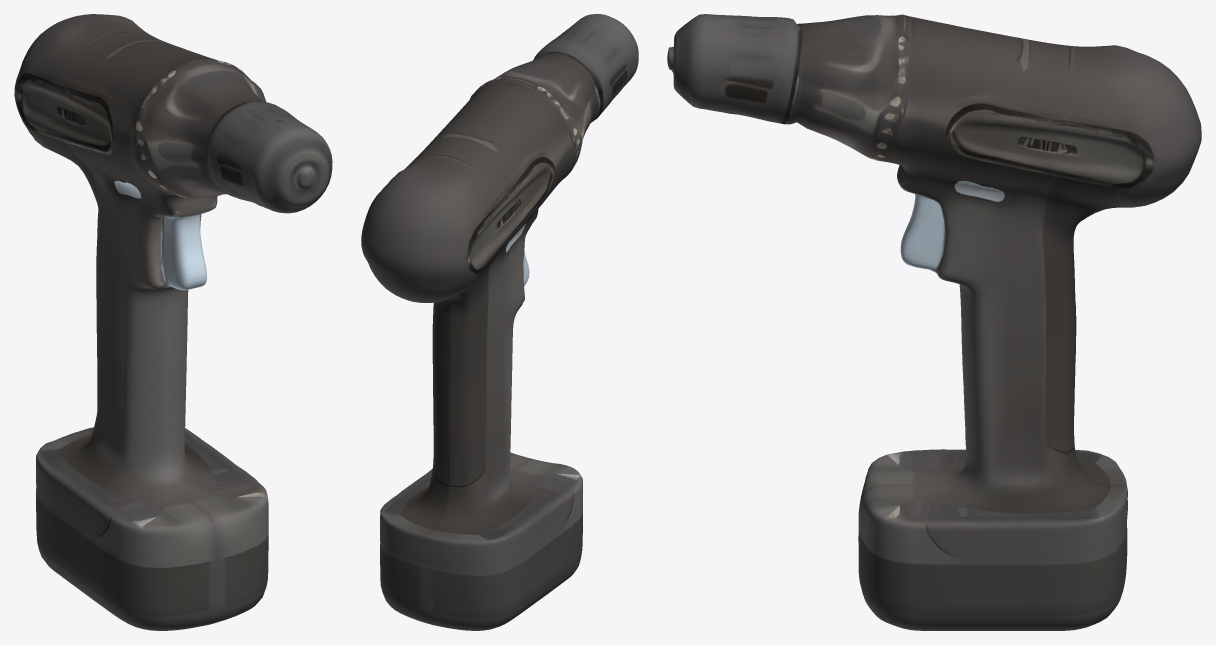
3 renders of one model, left to right at view 1: azimuth 30°, elevation 25°; view 2: azimuth 150°, elevation 25°; view 3: azimuth 270°, elevation 25°, orthographic. The views are drawn at different scales.
Parts seen in each view (by area): view 1: model; view 2: model; view 3: model.
Boxes of the visible parts, x1,y1,x2,y2 form: model: [14, 14, 332, 630]; model: [361, 14, 638, 630]; model: [667, 14, 1201, 630].
Bounding box in the file's own units: 0.5351 × 1.9 × 1.57.
Materials: 1 (1 with a texture image).
